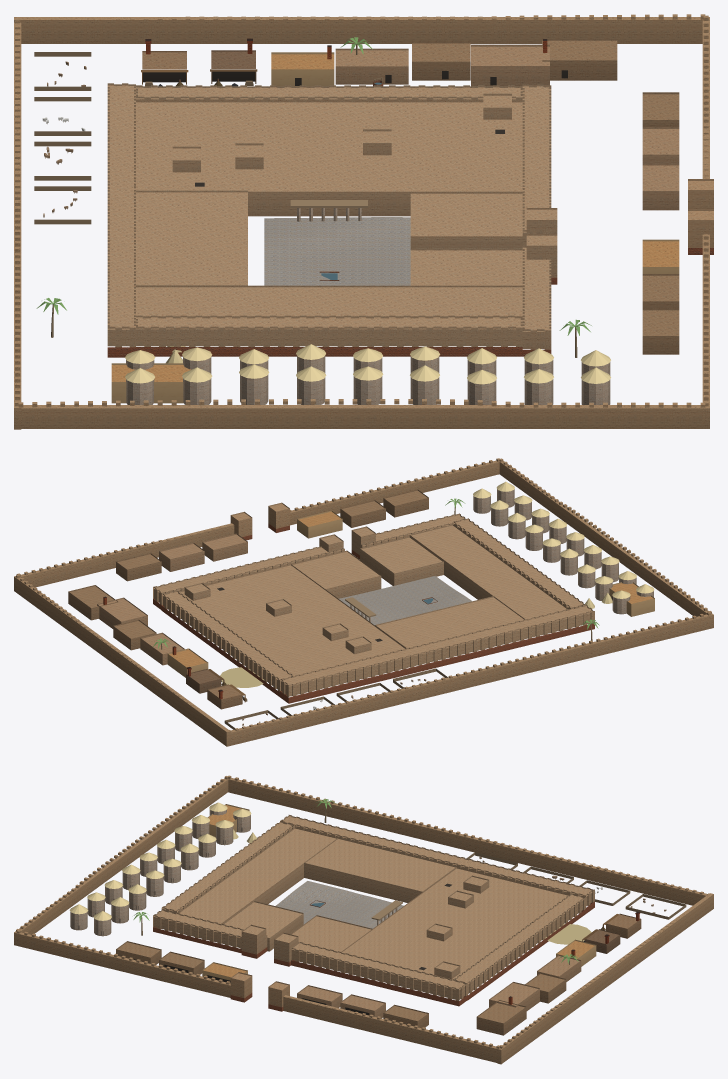
File: uruk_sinkashid.glb
The picture shows the model from 3 angles, top to bottom: view 1: azimuth 30°, elevation 25°; view 2: azimuth 150°, elevation 25°; view 3: azimuth 270°, elevation 25°; orthographic projection. The views are drawn at different scales.
Visible parts, largest first — view 1: uruk_sinkashid; view 2: uruk_sinkashid; view 3: uruk_sinkashid.
Boxes of the visible parts, x1=… form: uruk_sinkashid: x1=14, y1=14, x2=713, y2=429; uruk_sinkashid: x1=14, y1=458, x2=713, y2=746; uruk_sinkashid: x1=14, y1=775, x2=713, y2=1064.
Size of the model in its own units: 261 by 11.59 by 281.
18 materials, 4 textured.
